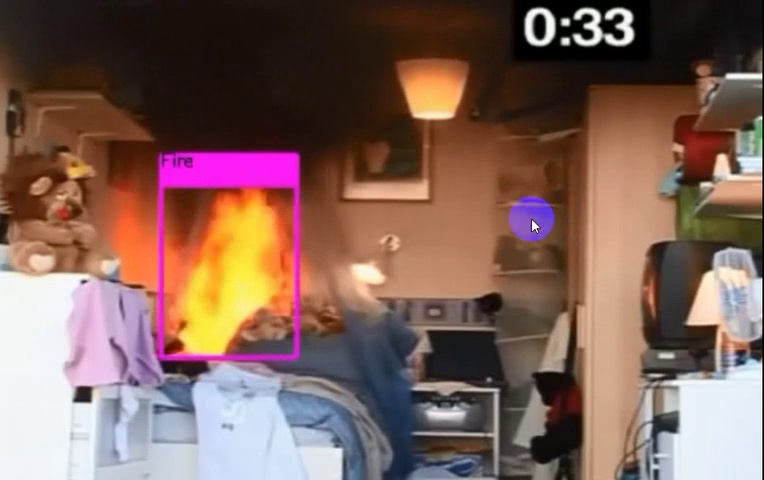fire: (163, 184, 288, 351)
